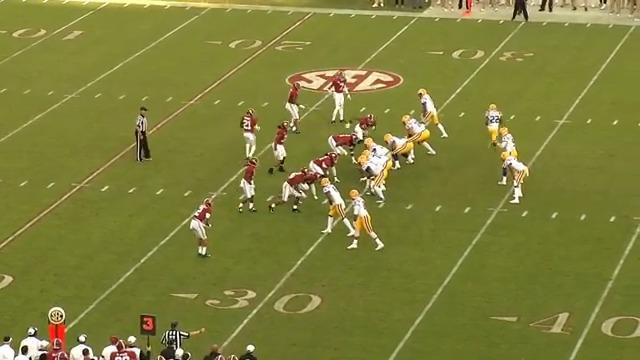player: (346, 187, 386, 254), (264, 168, 310, 216), (323, 179, 352, 237), (191, 195, 217, 259), (416, 89, 448, 140), (357, 156, 387, 210), (402, 115, 438, 158), (496, 127, 520, 186), (328, 75, 352, 129), (237, 159, 260, 214), (504, 152, 527, 207), (381, 133, 413, 172), (284, 78, 305, 135), (309, 151, 343, 185), (271, 121, 291, 178), (241, 109, 261, 165), (327, 133, 361, 164), (483, 104, 504, 152), (351, 113, 377, 145), (299, 172, 322, 199), (364, 137, 393, 157), (362, 150, 392, 169)
ref: (133, 104, 154, 165), (47, 302, 70, 341)
